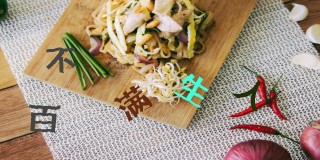不: (45, 46, 75, 73)
人: (232, 80, 261, 111)
满: (114, 85, 152, 121)
生: (173, 73, 208, 108)
百: (28, 103, 61, 132)
